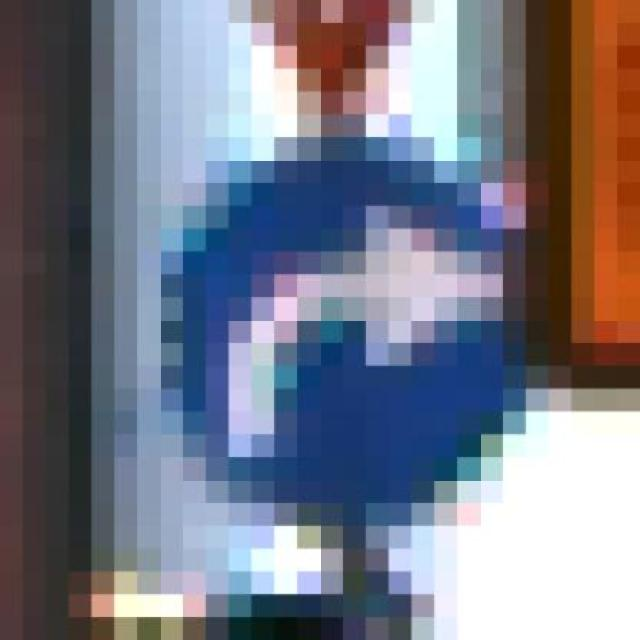Turn right ahead: (91, 137, 548, 549)
